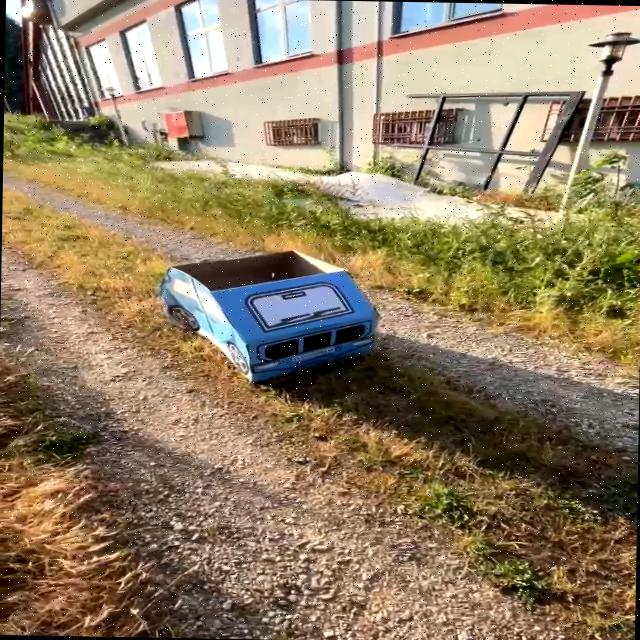blue_car: (138, 240, 421, 393)
